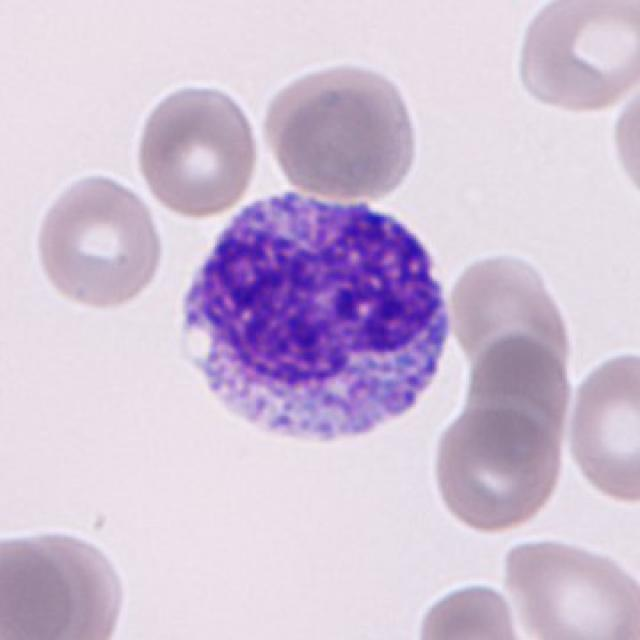Lymphocyte: (164, 181, 462, 464)
RBC: (269, 59, 423, 205), (28, 165, 169, 315), (130, 77, 263, 221), (429, 404, 564, 535), (498, 533, 638, 640), (514, 2, 638, 116), (560, 345, 640, 507), (0, 526, 80, 638), (408, 579, 524, 640), (610, 68, 640, 212)
